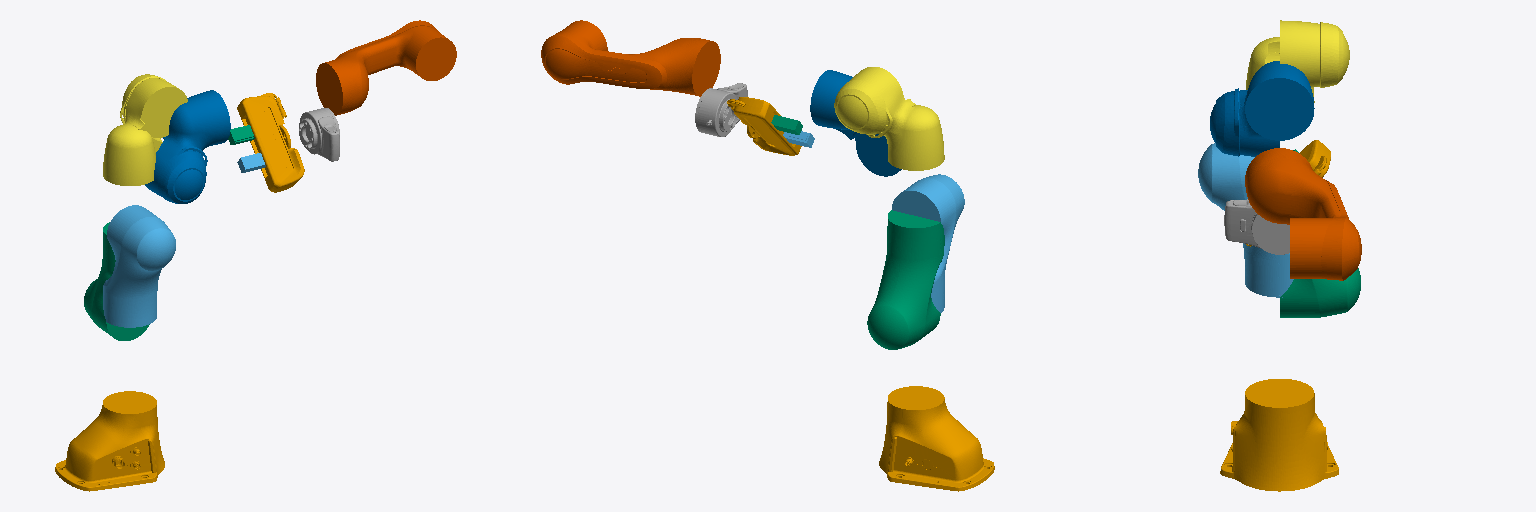
URDF robot description (panda):
<?xml version="1.0" ?>
<robot name="panda">

  <link name="panda_link0">
    <visual>
      <geometry>
        <mesh filename="../../../urdf/franka_description/meshes/visual/link0.obj"/>
      </geometry>
    </visual>
    <collision>
      <geometry>
        <mesh filename="../../../urdf/franka_description/meshes/collision/link0.stl"/>
      </geometry>
    </collision>
    <inertial>
      <origin rpy="0 0 0" xyz="-0.041018 -0.00014 0.049974"/>
      <mass value="0.629769"/>
      <inertia ixx="0.00315" ixy="8.2904e-07" ixz="0.00015" iyy="0.00388" iyz="8.2299e-06" izz="0.004285"/>
    </inertial>
  </link>

  <joint name="panda_joint1" type="revolute">
    <origin rpy="0 0 0" xyz="0 0 0.333"/>
    <parent link="panda_link0"/>
    <child link="panda_link1"/>
    <axis xyz="0 0 1"/>
    <limit effort="87" lower="-2.8973" upper="2.8973" velocity="2.1750"/>
    <dynamics damping="0.0" friction="0.0"/>
  </joint>

  <link name="panda_link1">
    <visual>
      <geometry>
        <mesh filename="../../../urdf/franka_description/meshes/visual/link1.obj"/>
      </geometry>
    </visual>
    <collision>
      <geometry>
        <mesh filename="../../../urdf/franka_description/meshes/collision/link1.stl"/>
      </geometry>
    </collision>
    <inertial>
      <origin rpy="0 0 0" xyz="0.003875 0.002081 -0.04762"/>
      <mass value="4.970684"/>
      <inertia ixx="0.70337" ixy="-0.000139" ixz="0.006772" iyy="0.70661" iyz="0.019169" izz="0.009117"/>
    </inertial>
  </link>

  <joint name="panda_joint2" type="revolute">
    <origin rpy="-1.5707963267948966 0 0" xyz="0 0 0"/>
    <parent link="panda_link1"/>
    <child link="panda_link2"/>
    <axis xyz="0 0 1"/>
    <limit effort="87" lower="-1.7628" upper="1.7628" velocity="2.1750"/>
    <dynamics damping="0.0" friction="0.0"/>
  </joint>
  
  <link name="panda_link2">
    <visual>
      <geometry>
        <mesh filename="../../../urdf/franka_description/meshes/visual/link2.obj"/>
      </geometry>
    </visual>
    <collision>
      <geometry>
        <mesh filename="../../../urdf/franka_description/meshes/collision/link2.stl"/>
      </geometry>
    </collision>
    <inertial>
      <origin rpy="0 0 0" xyz="-0.003141 -0.02872  0.003495"/>
      <mass value="0.646926"/>
      <inertia ixx="0.007962" ixy="-0.003925" ixz="0.010254" iyy="0.02811" iyz="0.000704" izz="0.025995"/>
    </inertial>
  </link>

  <joint name="panda_joint3" type="revolute">
    <origin rpy="1.5707963267948966 0 0" xyz="0 -0.316 0"/>
    <parent link="panda_link2"/>
    <child link="panda_link3"/>
    <axis xyz="0 0 1"/>
    <limit effort="87" lower="-2.8973" upper="2.8973" velocity="2.1750"/>
    <dynamics damping="0.0" friction="0.0"/>
  </joint>
  
  <link name="panda_link3">
    <visual>
      <geometry>
        <mesh filename="../../../urdf/franka_description/meshes/visual/link3.obj"/>
      </geometry>
    </visual>
    <collision>
      <geometry>
        <mesh filename="../../../urdf/franka_description/meshes/collision/link3.stl"/>
      </geometry>
    </collision>
    <inertial>
      <origin rpy="0 0 0" xyz="2.7518e-02 3.9252e-02 -6.6502e-02"/>
      <mass value="3.228604"/>
      <inertia ixx="0.037242" ixy="-0.004761" ixz="-0.011396" iyy="0.036155" iyz="-0.012805" izz="0.01083"/>
    </inertial>
  </link>

  <joint name="panda_joint4" type="revolute">
    <origin rpy="1.5707963267948966 0 0" xyz="0.0825 0 0"/>
    <parent link="panda_link3"/>
    <child link="panda_link4"/>
    <axis xyz="0 0 1"/>
    <limit effort="87" lower="-3.0718" upper="-0.0698" velocity="2.1750"/>
    <dynamics damping="0.0" friction="0.0"/>
  </joint>
  
  <link name="panda_link4">
    <visual>
      <geometry>
        <mesh filename="../../../urdf/franka_description/meshes/visual/link4.obj"/>
      </geometry>
    </visual>
    <collision>
      <geometry>
        <mesh filename="../../../urdf/franka_description/meshes/collision/link4.stl"/>
      </geometry>
    </collision>
    <inertial>
      <origin rpy="0 0 0" xyz="-5.317e-02 1.04419e-01 2.7454e-02"/>
      <mass value="3.587895"/>
      <inertia ixx="0.025853" ixy="0.007796" ixz="-0.001332" iyy="0.019552" iyz="0.008641" izz="0.028323"/>
    </inertial>
  </link>

  <joint name="panda_joint5" type="revolute">
    <origin rpy="-1.5707963267948966 0 0" xyz="-0.0825 0.384 0"/>
    <parent link="panda_link4"/>
    <child link="panda_link5"/>
    <axis xyz="0 0 1"/>
    <limit effort="12" lower="-2.8973" upper="2.8973" velocity="2.6100"/>
    <dynamics damping="0.0" friction="0.0"/>
  </joint>
  
  <link name="panda_link5">
    <visual>
      <geometry>
        <mesh filename="../../../urdf/franka_description/meshes/visual/link5.obj"/>
      </geometry>
    </visual>
    <collision>
      <geometry>
        <mesh filename="../../../urdf/franka_description/meshes/collision/link5.stl"/>
      </geometry>
    </collision>
    <inertial>
      <origin rpy="0 0 0" xyz="-1.1953e-02 4.1065e-02 -3.8437e-02"/>
      <mass value="1.225946"/>
      <inertia ixx="0.035549" ixy="-0.002117" ixz="-0.004037" iyy="0.029474" iyz="0.000229" izz="0.008627"/>
    </inertial>
  </link>

  <joint name="panda_joint6" type="revolute">
    <origin rpy="1.5707963267948966 0 0" xyz="0 0 0"/>
    <parent link="panda_link5"/>
    <child link="panda_link6"/>
    <axis xyz="0 0 1"/>
    <limit effort="12" lower="-0.0175" upper="3.7525" velocity="2.6100"/>
    <dynamics damping="0.0" friction="0.0"/>
  </joint>
  
  <link name="panda_link6">
    <visual>
      <geometry>
        <mesh filename="../../../urdf/franka_description/meshes/visual/link6.obj"/>
      </geometry>
    </visual>
    <collision>
      <geometry>
        <mesh filename="../../../urdf/franka_description/meshes/collision/link6.stl"/>
      </geometry>
    </collision>
    <inertial>
      <origin rpy="0 0 0" xyz="6.0149e-02 -1.4117e-02 -1.0517e-02"/>
      <mass value="1.666555"/>
      <inertia ixx="0.001964" ixy="0.000109" ixz="-0.001158" iyy="0.004354" iyz="0.000341" izz="0.005433"/>
    </inertial>
  </link>

  <joint name="panda_joint7" type="revolute">
    <origin rpy="1.5707963267948966 0 0" xyz="0.088 0 0"/>
    <parent link="panda_link6"/>
    <child link="panda_link7"/>
    <axis xyz="0 0 1"/>
    <limit effort="12" lower="-2.8973" upper="2.8973" velocity="2.6100"/>
    <dynamics damping="0.0" friction="0.0"/>
  </joint>
  
  <link name="panda_link7">
    <visual>
      <geometry>
        <mesh filename="../../../urdf/franka_description/meshes/visual/link7.obj"/>
      </geometry>
    </visual>
    <collision>
      <geometry>
        <mesh filename="../../../urdf/franka_description/meshes/collision/link7.stl"/>
      </geometry>
    </collision>
    <inertial>
      <origin rpy="0 0 0" xyz="1.0517e-02 -4.252e-03 6.1597e-02"/>
      <mass value="0.735522"/>
      <inertia ixx="0.012516" ixy="-0.000428" ixz="-0.001196" iyy="0.010027" iyz="-0.000741" izz="0.004815"/>
    </inertial>
  </link>

  <joint name="panda_hand_joint" type="fixed">
    <parent link="panda_link7"/>
    <child link="panda_hand"/>
    <origin rpy="0 0 -0.7853981633974483" xyz="0 0 0.107"/>
  </joint>
  
  <link name="panda_hand">
    <visual>
      <geometry>
        <mesh filename="../../../urdf/franka_description/meshes/visual/hand.obj"/>
      </geometry>
    </visual>
    <collision>
      <geometry>
        <mesh filename="../../../urdf/franka_description/meshes/collision/hand.stl"/>
      </geometry>
    </collision>
    <inertial>
      <origin rpy="0 0 0" xyz="-0.01 0 0.03"/>
      <mass value="0.73"/>
      <inertia ixx="0.001" ixy="0" ixz="0" iyy="0.0025" iyz="0" izz="0.0017"/>
    </inertial>
  </link>

  <joint name="panda_finger_joint1" type="fixed">
    <parent link="panda_hand"/>
    <child link="panda_leftfinger"/>
    <origin xyz="0.0 0.016485006549982008 0.0584" rpy="0.0 0.0 0.0"/>
</joint>

  <joint name="panda_finger_joint2" type="fixed">
    <parent link="panda_hand"/>
    <child link="panda_rightfinger"/>
    <origin xyz="0.0 -0.016485006549982008 0.0584" rpy="0.0 0.0 0.0"/>
</joint>
  
  <link name="panda_leftfinger">
    <visual>
      <geometry>
        <mesh filename="../../mesh/fabrica_franka_table/fabrica_franka_finger_rubber_viz.obj"/>
      </geometry>
    </visual>
    <!--finger-->
    <collision>
      <origin rpy="0 0 0" xyz="0.0 0.0155 0.027"/>
      <geometry>
        <box size="0.021 0.026 0.054"/>
      </geometry>
    </collision>
    <!--fingerpad-->
    <collision>
      <origin rpy="0 0 0" xyz="0.0 0.00125 0.02923232"/>
      <geometry>
        <box size="0.01224264 0.0025 0.04377800"/>
      </geometry>
    </collision>
    <inertial>
      <origin rpy="0 0 0" xyz="0 0.0114 0.0231"/>
      <mass value="0.0297"/>
      <inertia ixx="7.552e-06" ixy="0" ixz="0" iyy="7.159e-06" iyz="1.043e-6" izz="2.352e-06"/>
    </inertial>
  </link>

  <link name="panda_rightfinger">
    <visual>
      <origin rpy="0 0 3.141592653589793" xyz="0 0 0"/>
      <geometry>
        <mesh filename="../../mesh/fabrica_franka_table/fabrica_franka_finger_rubber_viz.obj"/>
      </geometry>
    </visual>
    <!--finger-->
    <collision>
      <origin rpy="0 0 0" xyz="0.0 -0.0155 0.027"/>
      <geometry>
        <box size="0.021 0.026 0.054"/>
      </geometry>
    </collision>
    <!--fingerpad-->
    <collision>
      <origin rpy="0 0 0" xyz="0.0 -0.00125 0.02923232"/>
      <geometry>
        <box size="0.01224264 0.0025 0.04377800"/>
      </geometry>
    </collision>
    <inertial>
      <origin rpy="0 0 3.141592653589793" xyz="0 0.0114 0.0231"/>
      <mass value="0.0297"/>
      <inertia ixx="7.552e-06" ixy="0" ixz="0" iyy="7.159e-06" iyz="1.043e-6" izz="2.352e-06"/>
    </inertial>
  </link>

  <!--Used for calculating pose and Jacobian.
  Joint connects hand to dummy link located at midpoint between centers of original fingerpads (when fingers are mirrored).-->
  <joint name="panda_fingertip_centered_joint" type="fixed">
      <parent link="panda_hand"/>
      <child link="panda_fingertip_centered"/>
      <origin rpy="0 0 0" xyz="0 0 0.1034"/>
  </joint>

  <link name="panda_fingertip_centered">
    <inertial>
      <origin rpy="0 0 0" xyz="0 0 0"/>
      <mass value="1.0e-6"/>
      <inertia ixx="1.0e-09" ixy="0" ixz="0" iyy="1.0e-09" iyz="0" izz="1.0e-09"/>
    </inertial>
  </link>

<link name="4">
        <visual>
	<origin xyz="0 0 0" rpy="-1.5708 0 0"/>
            <geometry>
                <mesh filename="../../mesh/fabrica/plumbers_block/4.obj"/>
            </geometry>
        </visual>
        <collision>
            <geometry>
                <mesh filename="../../mesh/fabrica/plumbers_block/4.obj"/>
            </geometry>
            <sdf resolution="512"/>
        </collision>
    </link>

    <joint name="4_joint" type="fixed">
        <parent link="panda_hand"/>
        <child link="4"/>
        <origin xyz="0.0585638737244362 0.006435313940152815 0.18737031069859314" rpy="3.139871222881025 -0.12828183195200782 -3.1281374458504545" />
    </joint>
    
</robot>

--- Facts derived from the render (not from the file) ---
3 views of the same robot in one strip: view 1: azimuth 30°, elevation 25°; view 2: azimuth 150°, elevation 25°; view 3: azimuth 270°, elevation 25° (orthographic).
Model panda with 13 links and 12 joints (7 revolute, 5 fixed), rooted at panda_link0, posed all joints at 0 but 1 set to mid-range because 0 is outside their limits (panda_joint4 = -1.57).
Visible links, largest first — view 1: panda_link0, panda_link5, panda_link1, panda_link3, panda_link4, panda_hand, panda_link2, panda_link7; view 2: panda_link0, panda_link5, panda_link2, panda_link3, panda_link1, panda_link4, panda_hand, panda_link7; view 3: panda_link0, panda_link5, panda_link4, panda_link3, panda_link1, panda_link2, panda_link7, panda_hand.
Boxes of the visible links, <box> form: panda_link0: <box>55,391,164,491</box>; panda_link5: <box>316,20,456,115</box>; panda_link1: <box>103,205,175,327</box>; panda_link3: <box>103,74,187,185</box>; panda_link4: <box>145,90,230,203</box>; panda_hand: <box>237,93,304,192</box>; panda_link2: <box>84,222,149,340</box>; panda_link7: <box>299,108,339,161</box>; panda_link0: <box>879,386,994,491</box>; panda_link5: <box>541,20,720,96</box>; panda_link2: <box>867,210,944,349</box>; panda_link3: <box>834,67,944,170</box>; panda_link1: <box>892,174,964,312</box>; panda_link4: <box>810,70,901,176</box>; panda_hand: <box>727,97,801,155</box>; panda_link7: <box>695,83,747,136</box>; panda_link0: <box>1220,379,1338,491</box>; panda_link5: <box>1245,148,1361,280</box>; panda_link4: <box>1210,61,1314,156</box>; panda_link3: <box>1246,20,1349,102</box>; panda_link1: <box>1198,143,1293,297</box>; panda_link2: <box>1280,268,1360,317</box>; panda_link7: <box>1224,199,1289,254</box>; panda_hand: <box>1246,140,1330,246</box>.
Size in the robot's own frame: 0.9318 by 0.2593 by 0.825 metres.
Meshes: 11 distinct files referenced, 10 mesh visuals loaded (9 OBJ); not drawn: 1 (reference not matched to a file when rendering), 1 (file found but could not be loaded).
